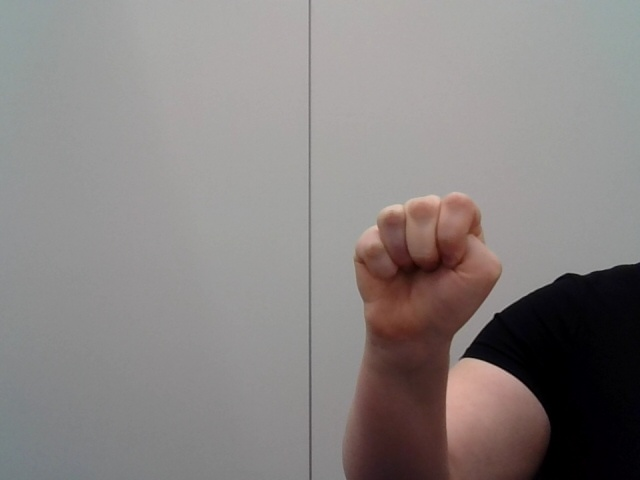down: (334, 185, 529, 348)
